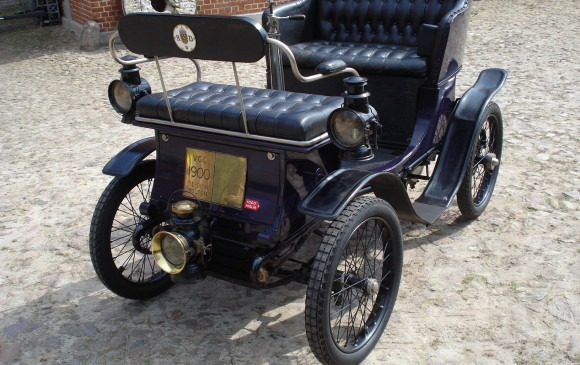car: (78, 6, 493, 362)
